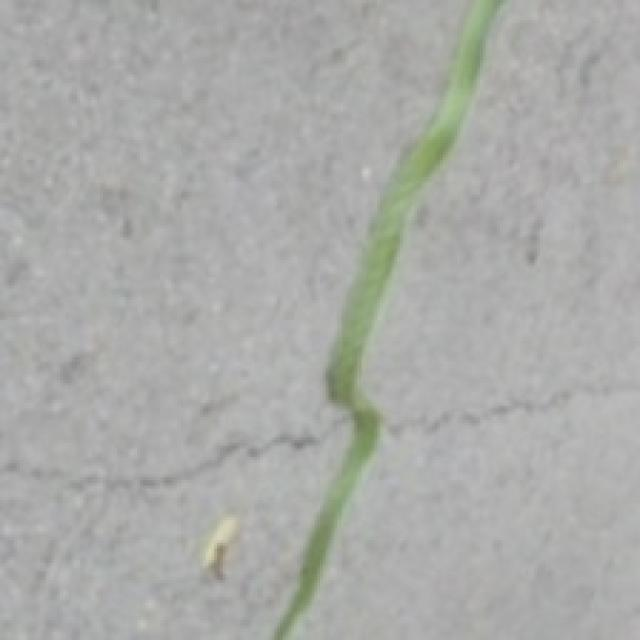red-tailed green ratsnake: (277, 0, 494, 637)
